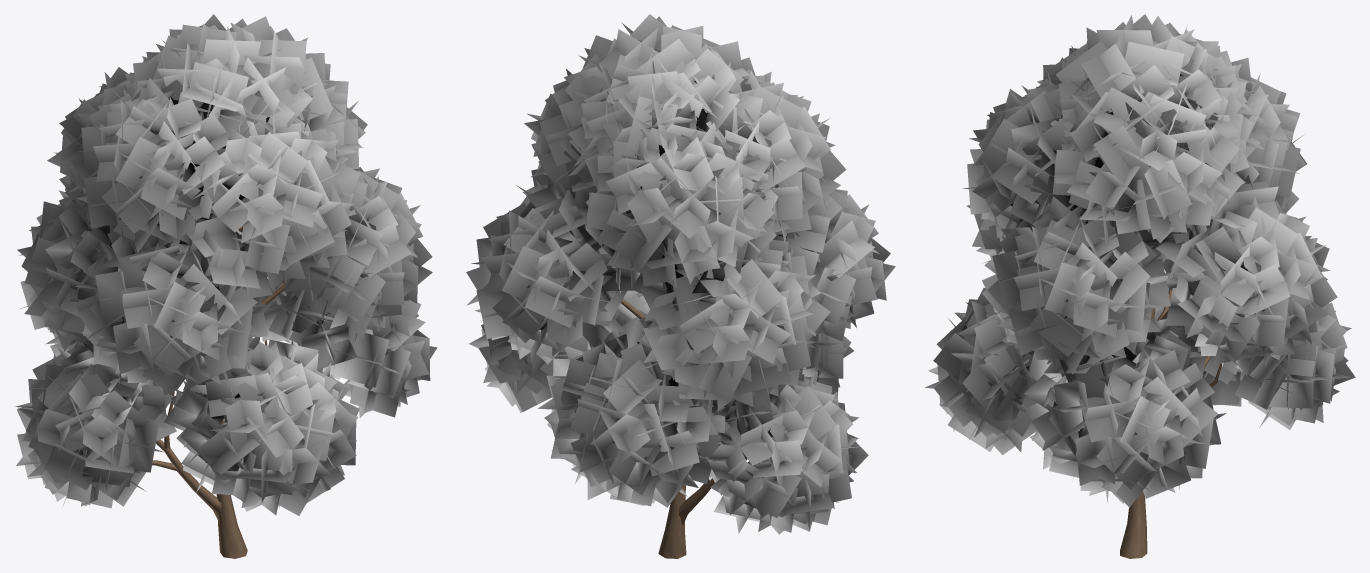
File: Scene_dashu_003.FBX
The picture shows the model from 3 angles, left to right: view 1: azimuth 30°, elevation 25°; view 2: azimuth 150°, elevation 25°; view 3: azimuth 270°, elevation 25°; orthographic projection.
Parts seen in each view (by area): view 1: Scene_dashu_003_LOD_0; view 2: Scene_dashu_003_LOD_0; view 3: Scene_dashu_003_LOD_0.
Boxes of the visible parts, x1,y1,x2,y2 form: Scene_dashu_003_LOD_0: (15, 14, 437, 558); Scene_dashu_003_LOD_0: (466, 14, 895, 558); Scene_dashu_003_LOD_0: (925, 14, 1355, 558).
Size of what is drawn, in the model's own units: 1122 by 1473 by 1089.
